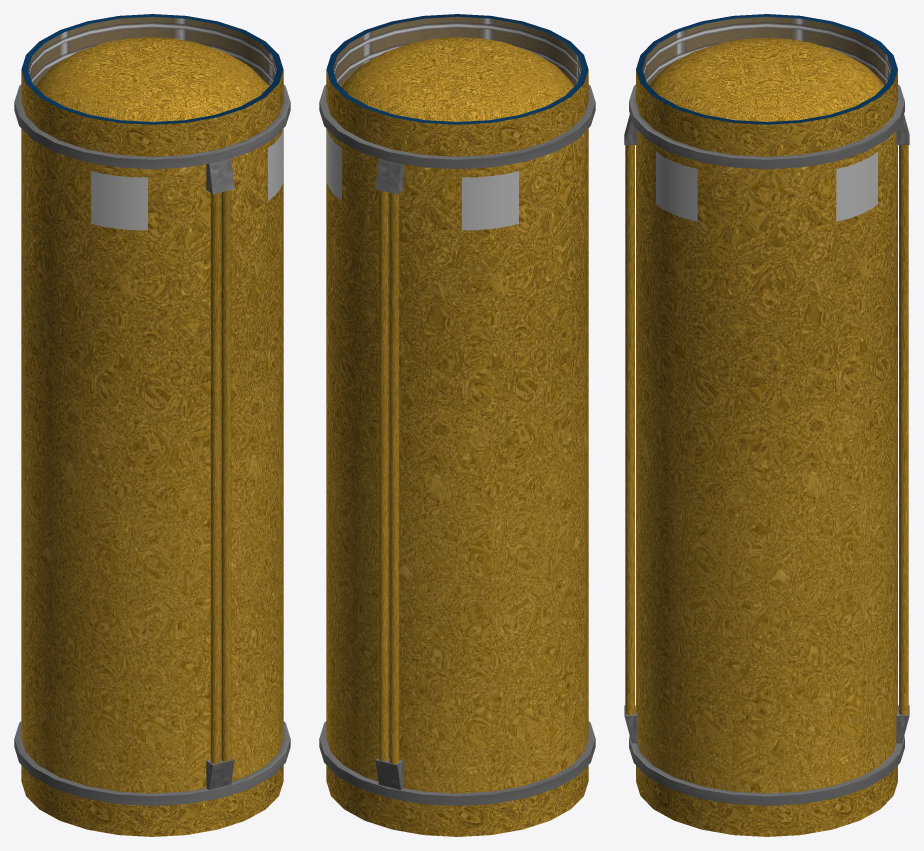
The model's file is FLM-14400MG.FBX.
3 renders of one model, left to right at view 1: azimuth 30°, elevation 25°; view 2: azimuth 150°, elevation 25°; view 3: azimuth 270°, elevation 25°, orthographic.
Parts seen in each view (by area): view 1: TankBody, TankSleeve001, EndCap001, TankSleeve002, FuelPipe001, FuelPipe002, BarrelBand003, BarrelBand002, decalPanel002, decalPanel001, FuelPlug001, FuelPlug002; view 2: TankBody, TankSleeve001, EndCap001, TankSleeve002, FuelPipe003, FuelPipe004, BarrelBand003, BarrelBand002, decalPanel003, decalPanel004, FuelPlug004, FuelPlug003; view 3: TankBody, TankSleeve001, EndCap001, TankSleeve002, FuelPipe002, FuelPipe004, BarrelBand003, BarrelBand002, decalPanel001, decalPanel004.
Boxes of the visible parts, bbox=[...] form: TankBody: bbox=[21, 128, 283, 793]; TankSleeve001: bbox=[21, 14, 283, 156]; EndCap001: bbox=[35, 37, 269, 121]; TankSleeve002: bbox=[21, 765, 283, 836]; FuelPipe001: bbox=[210, 192, 220, 763]; FuelPipe002: bbox=[221, 190, 231, 761]; BarrelBand003: bbox=[14, 84, 290, 169]; BarrelBand002: bbox=[14, 721, 290, 805]; decalPanel002: bbox=[91, 171, 147, 230]; decalPanel001: bbox=[268, 129, 283, 200]; FuelPlug001: bbox=[206, 158, 234, 194]; FuelPlug002: bbox=[206, 757, 234, 790]; TankBody: bbox=[326, 128, 588, 793]; TankSleeve001: bbox=[326, 14, 588, 156]; EndCap001: bbox=[340, 37, 574, 121]; TankSleeve002: bbox=[326, 765, 588, 836]; FuelPipe003: bbox=[389, 192, 399, 763]; FuelPipe004: bbox=[378, 190, 388, 761]; BarrelBand003: bbox=[319, 84, 595, 169]; BarrelBand002: bbox=[319, 721, 595, 805]; decalPanel003: bbox=[462, 171, 518, 230]; decalPanel004: bbox=[326, 129, 341, 200]; FuelPlug004: bbox=[375, 158, 403, 194]; FuelPlug003: bbox=[375, 757, 403, 790]; TankBody: bbox=[636, 130, 897, 793]; TankSleeve001: bbox=[636, 14, 897, 156]; EndCap001: bbox=[649, 38, 884, 121]; TankSleeve002: bbox=[636, 765, 897, 836]; FuelPipe002: bbox=[625, 145, 634, 715]; FuelPipe004: bbox=[899, 145, 908, 715]; BarrelBand003: bbox=[629, 84, 904, 169]; BarrelBand002: bbox=[629, 736, 904, 805]; decalPanel001: bbox=[656, 151, 697, 221]; decalPanel004: bbox=[836, 151, 877, 221].
Size of what is drawn, in the model's own units: 2.63 by 7.49 by 2.72.
